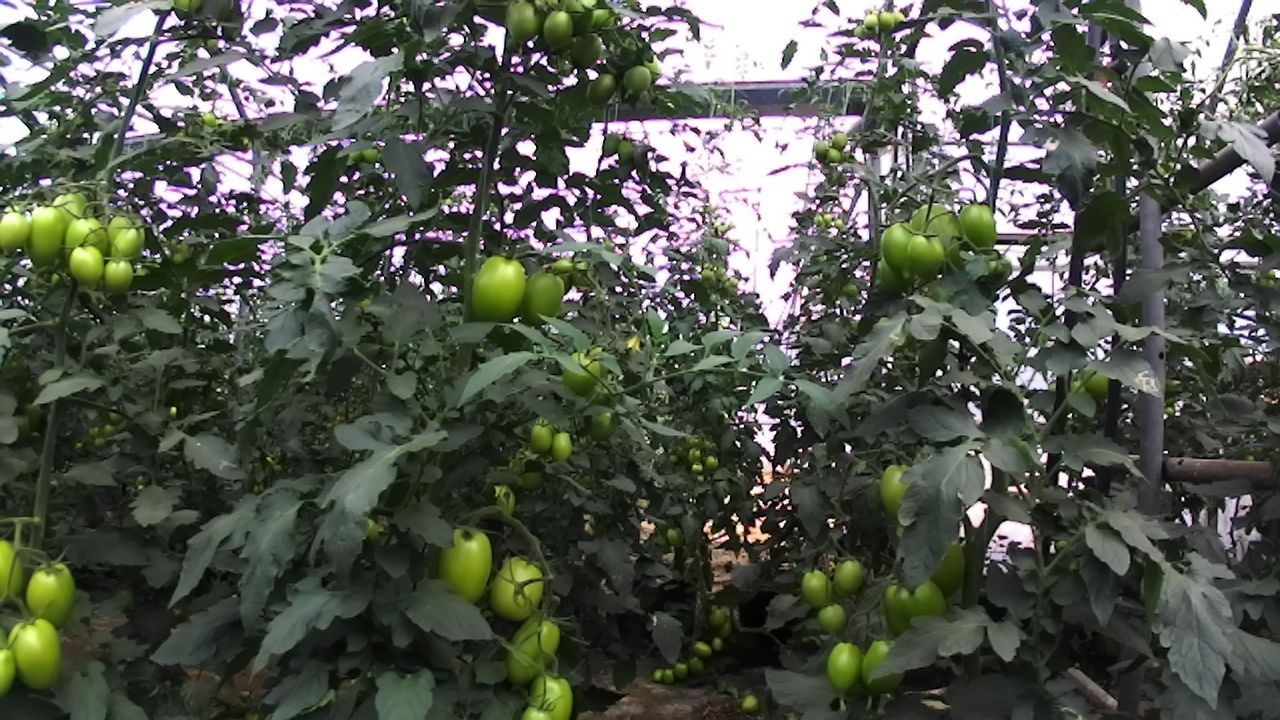tomato: (425, 512, 510, 622), (465, 246, 540, 335), (20, 554, 94, 644), (484, 545, 556, 631), (500, 602, 569, 691), (903, 193, 971, 276), (4, 611, 70, 695), (890, 566, 961, 636), (856, 629, 918, 702), (871, 451, 932, 525), (922, 531, 980, 605), (21, 196, 71, 277), (518, 264, 574, 336), (873, 213, 927, 282), (59, 211, 115, 275), (955, 193, 1006, 261), (521, 667, 583, 720), (554, 342, 608, 399), (823, 636, 871, 697), (106, 212, 151, 272), (902, 228, 950, 284), (502, 0, 547, 49), (582, 64, 625, 114), (537, 5, 580, 55), (797, 563, 839, 614), (581, 400, 626, 447), (98, 252, 140, 302), (65, 240, 107, 289), (828, 551, 868, 600), (0, 205, 36, 257), (567, 29, 606, 71), (619, 60, 659, 97), (814, 599, 853, 636), (522, 418, 557, 459), (656, 520, 694, 557), (545, 428, 576, 465), (737, 687, 764, 716), (684, 654, 710, 679), (808, 136, 833, 161), (829, 127, 852, 154), (705, 606, 730, 630), (876, 9, 899, 33), (690, 638, 714, 659), (701, 451, 722, 473), (823, 144, 844, 166), (861, 10, 881, 32), (648, 663, 668, 685), (672, 660, 690, 682), (659, 667, 679, 686), (708, 634, 725, 653)
